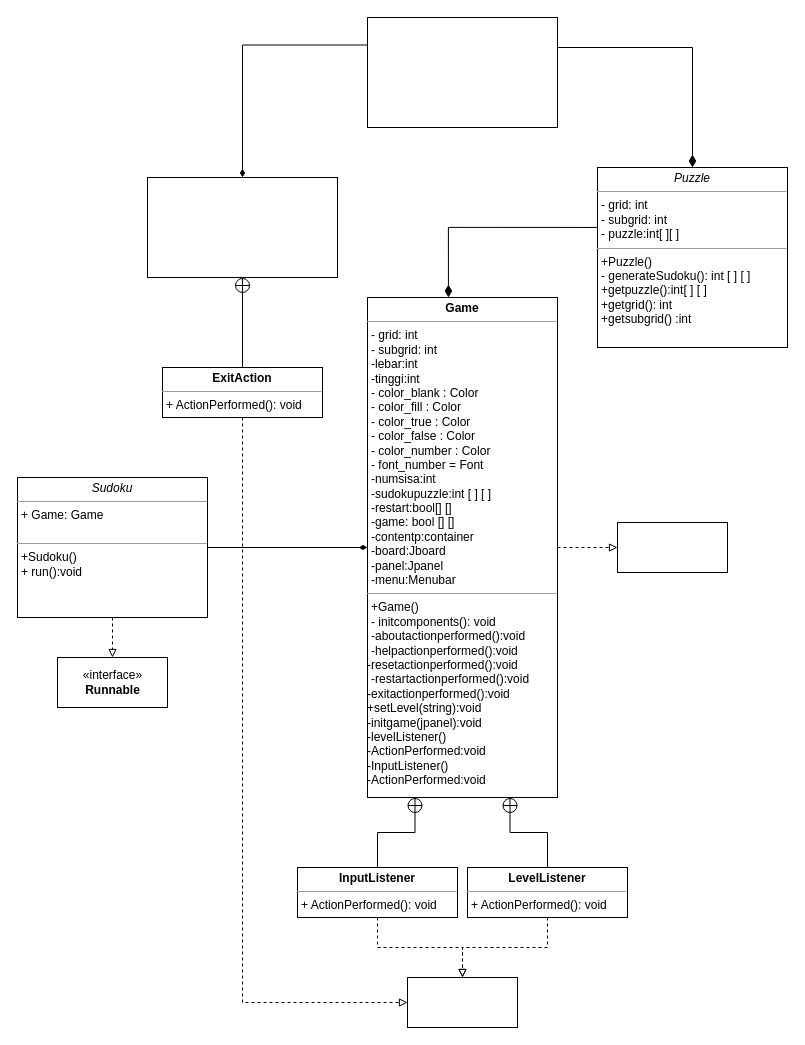
Image size: 805x1045. Some labels were removed from this diagram. Each missing label, with the box of its shape:
Board - jumlahKotak: int - kotak: Grid[ ] +Board(): (146, 176, 338, 278)
Grid + jumlahCell: int + Grid: Cell[ ] +Grid() + cell(): cell: (366, 16, 558, 128)
«interface» ActionListener: (406, 976, 518, 1028)
«interface» Jframe: (616, 522, 728, 572)
